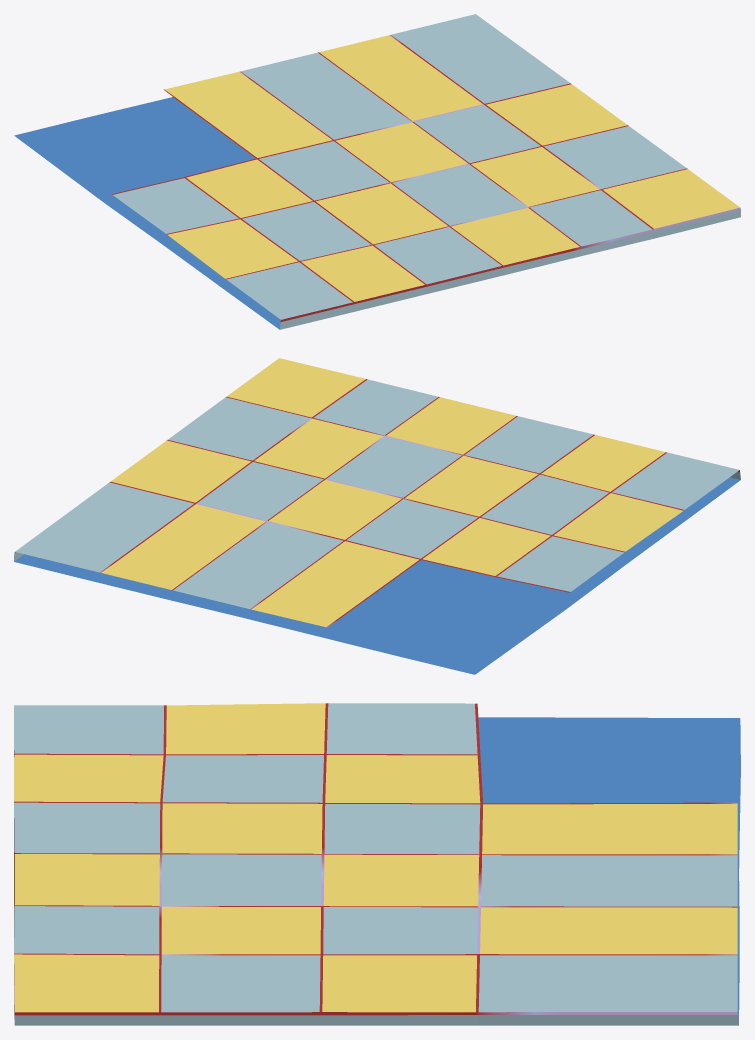
File: Bathroom_Floor.fbx
3 views of the same model, one above another, from view 1: azimuth 30°, elevation 25°; view 2: azimuth 150°, elevation 25°; view 3: azimuth 270°, elevation 25° (orthographic). The views are drawn at different scales.
Visible parts, largest first — view 1: Bathroom_Floor; view 2: Bathroom_Floor; view 3: Bathroom_Floor.
Part boxes in pixels (left/top/right/bottom): Bathroom_Floor: left=14, top=14, right=740, bottom=329; Bathroom_Floor: left=14, top=358, right=740, bottom=674; Bathroom_Floor: left=14, top=703, right=740, bottom=1025.
Bounding box in the file's own units: 493 × 11.85 × 491.
